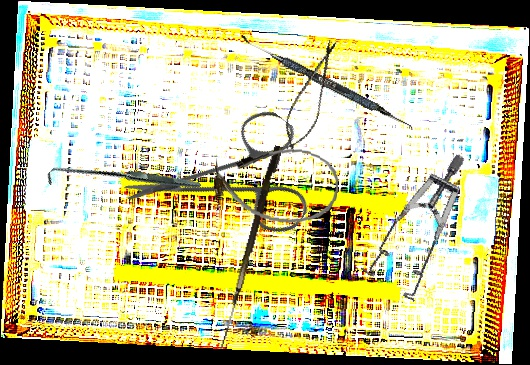Cannula: (210, 139, 342, 229)
Hook Surgical: (43, 102, 202, 261), (220, 144, 283, 352)
Iris Scissors: (119, 67, 344, 290)
Micro Scissor: (275, 34, 347, 157)
Spatula Surgical: (237, 35, 416, 130)
Speculum: (334, 151, 514, 318)
